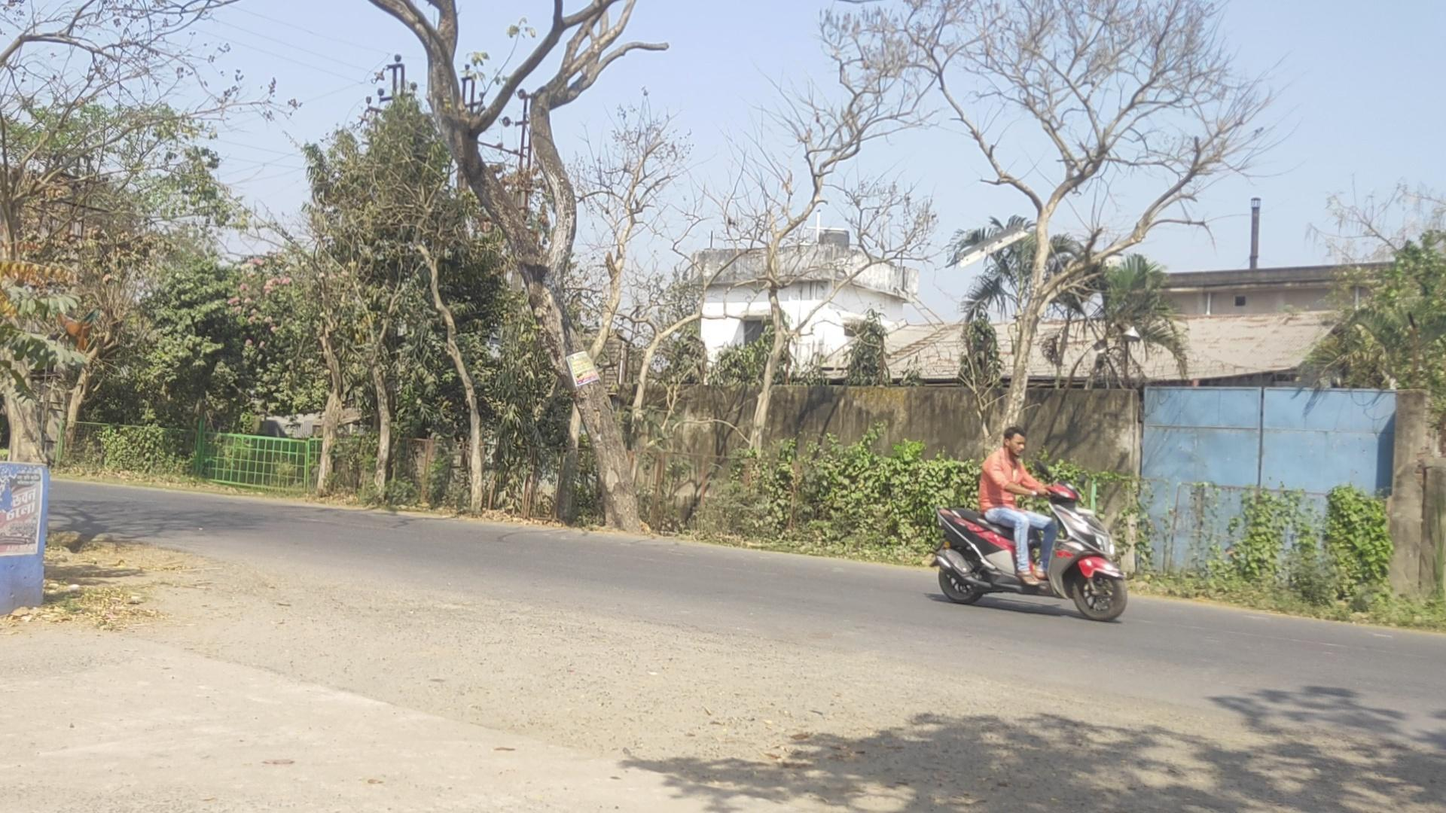bike: (929, 426, 1127, 622)
